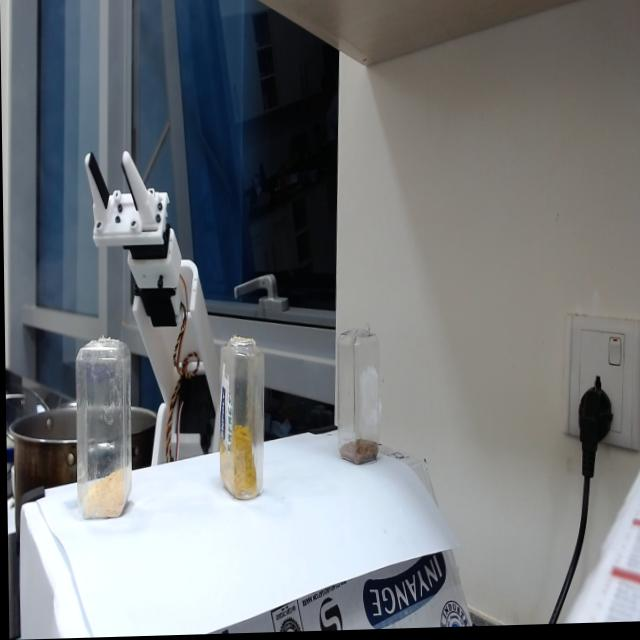cooking_pot: (10, 407, 78, 534)
curry_powder: (218, 424, 256, 501)
garlic_powder: (76, 465, 131, 520)
maggie_open: (338, 442, 379, 467)
